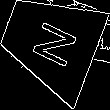N_NW: (22, 14, 78, 70)
